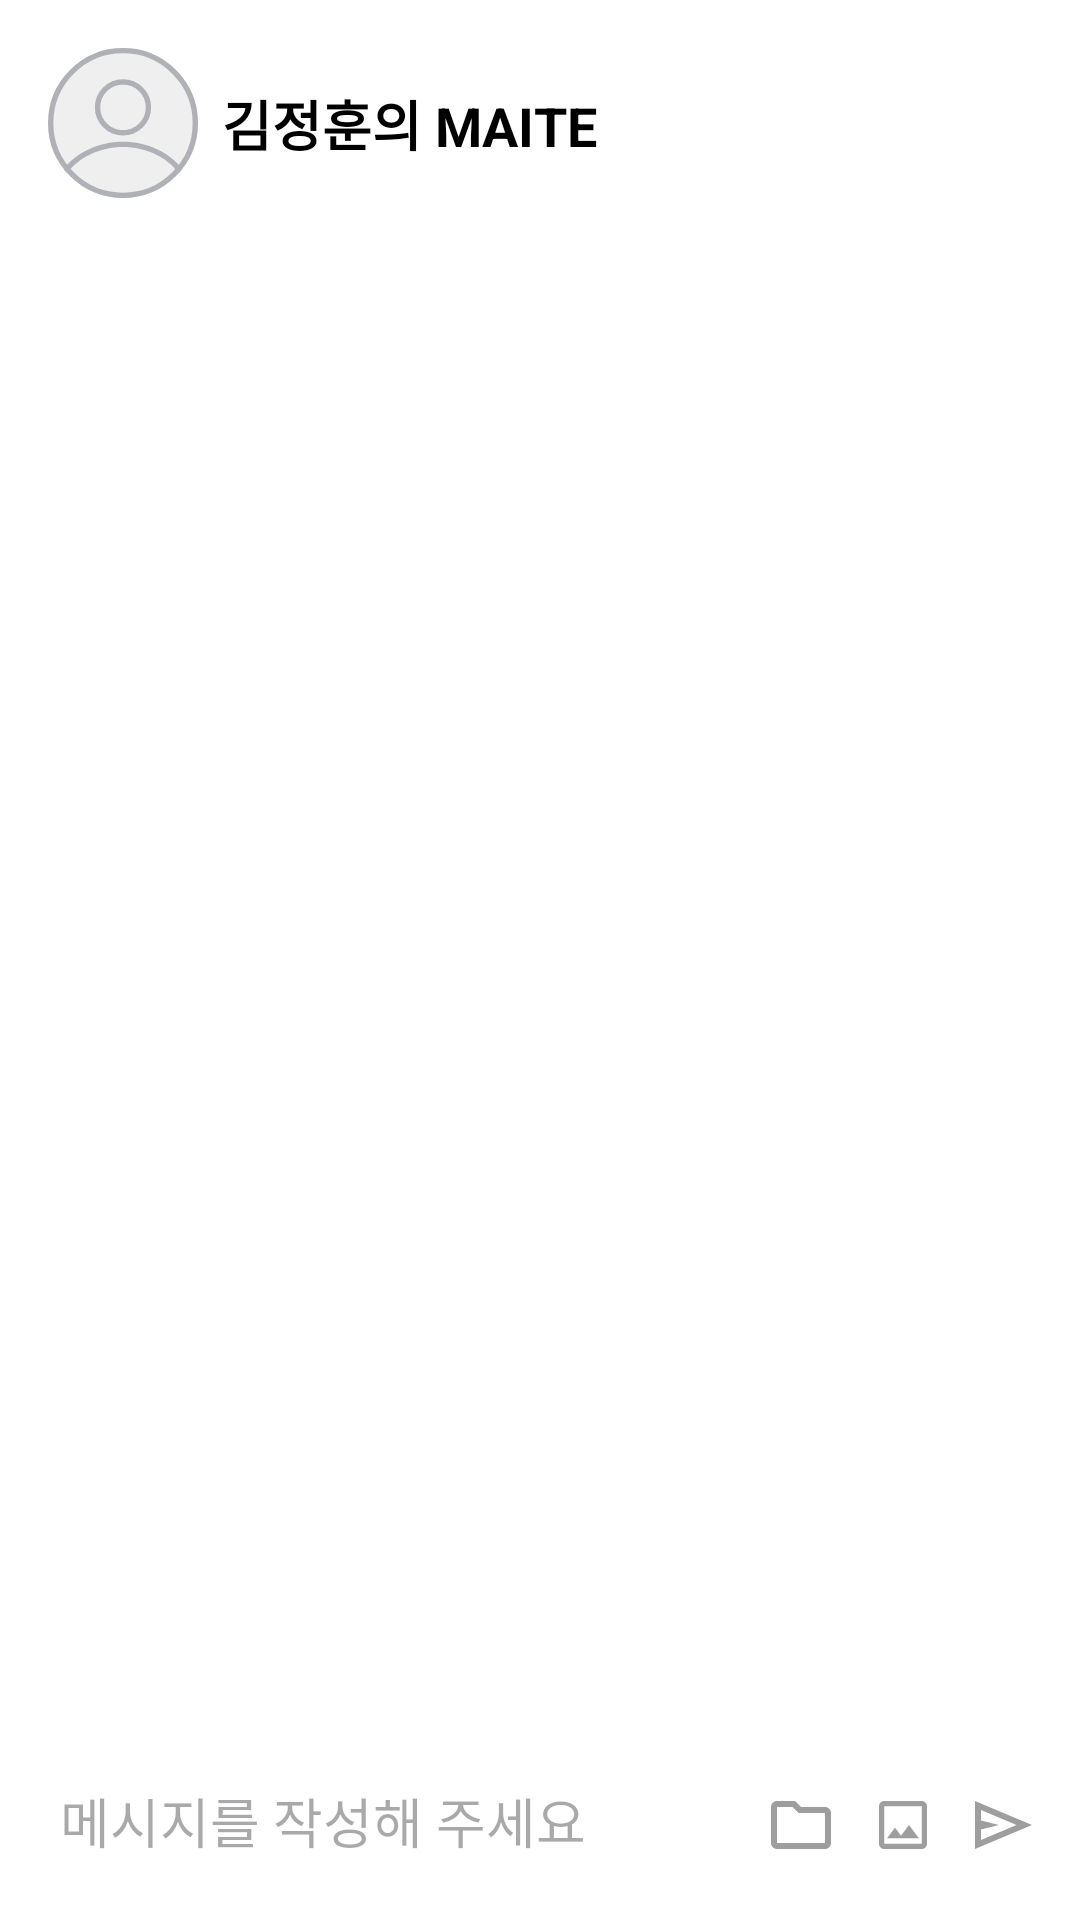

Named icons in this screenshot (1080px x 1920px) and their bounding boxes, BBox(x1, y1, x2, y2):
file: BBox(771, 1801, 831, 1849)
profile: BBox(48, 48, 198, 198)
send: BBox(975, 1801, 1031, 1849)
